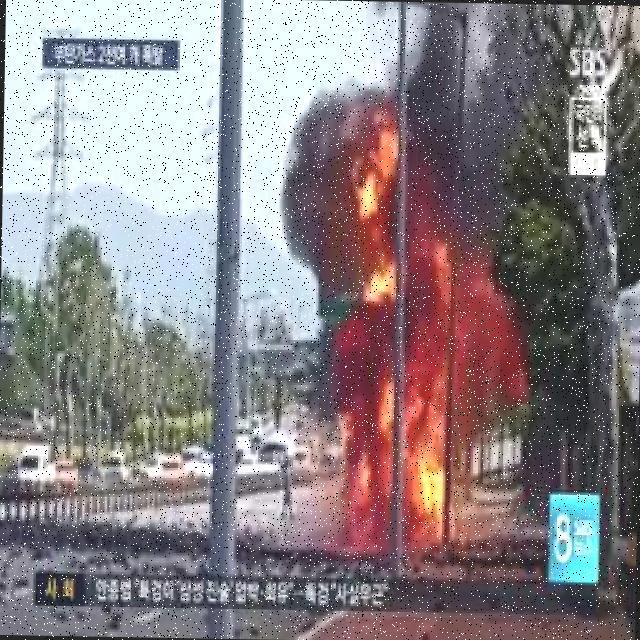Fire: (337, 259, 504, 548), (357, 125, 403, 245)
